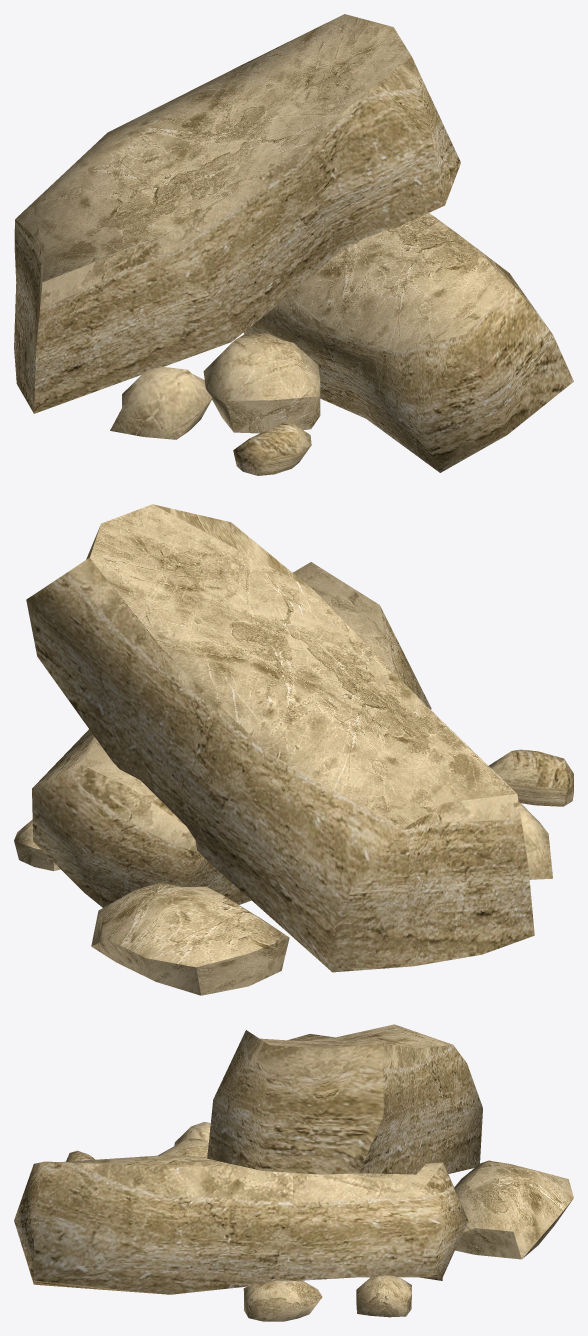
The model's file is geo_mineral_01.dae.
3 views of the same model, one above another, from view 1: azimuth 30°, elevation 25°; view 2: azimuth 150°, elevation 25°; view 3: azimuth 270°, elevation 25° (orthographic). The views are drawn at different scales.
Visible parts, largest first — view 1: slabs_mythos_002; view 2: slabs_mythos_002; view 3: slabs_mythos_002.
Boxes of the visible parts, x1,y1,x2,y2 form: slabs_mythos_002: (14,14,573,475); slabs_mythos_002: (14,504,573,995); slabs_mythos_002: (14,1024,573,1321).
Bounding box in the file's own units: 13.02 × 16.32 × 8.9.
